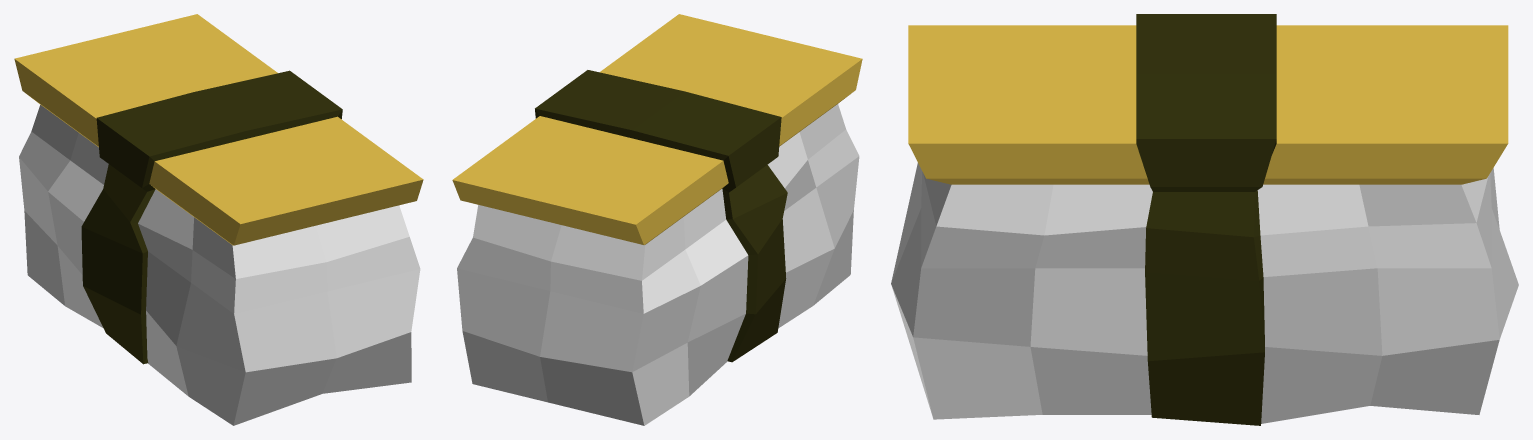
File: m_coloniusLory_Sushi_Omelette.fbx
3 views of the same model, side by side, from view 1: azimuth 30°, elevation 25°; view 2: azimuth 150°, elevation 25°; view 3: azimuth 270°, elevation 25° (orthographic). The views are drawn at different scales.
Parts seen in each view (by area): view 1: m_coloniusLory_Sushi_Omelette; view 2: m_coloniusLory_Sushi_Omelette; view 3: m_coloniusLory_Sushi_Omelette.
Part boxes in pixels (x1=…): m_coloniusLory_Sushi_Omelette: x1=14, y1=14, x2=423, y2=425; m_coloniusLory_Sushi_Omelette: x1=452, y1=14, x2=862, y2=425; m_coloniusLory_Sushi_Omelette: x1=891, y1=14, x2=1518, y2=425.
Size of the model in its own units: 3.39 by 2.98 by 5.88.
